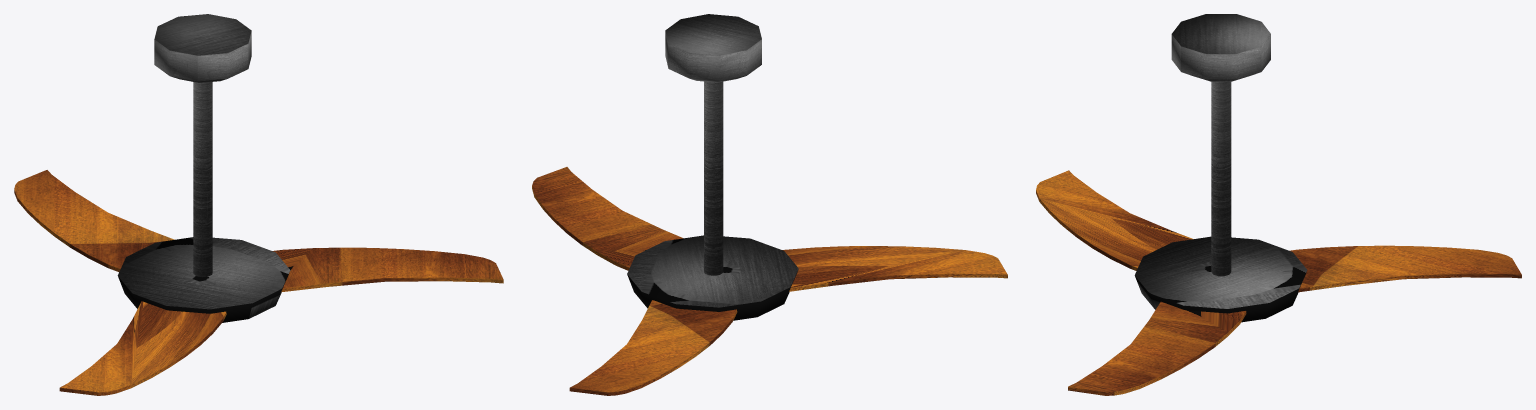
File: lightbulb.glb
The picture shows the model from 3 angles, left to right: view 1: azimuth 30°, elevation 25°; view 2: azimuth 150°, elevation 25°; view 3: azimuth 270°, elevation 25°; orthographic projection.
Parts seen in each view (by area): view 1: Ventilador, Base; view 2: Ventilador, Base; view 3: Ventilador, Base.
Part boxes in pixels (bbox=[...]): Ventilador: bbox=[14, 170, 503, 395]; Base: bbox=[154, 14, 251, 277]; Ventilador: bbox=[532, 167, 1007, 395]; Base: bbox=[665, 14, 761, 275]; Ventilador: bbox=[1036, 170, 1521, 395]; Base: bbox=[1171, 14, 1270, 276].
Size of the model in its own units: 33.02 by 18.49 by 30.54.
4 materials, 4 textured.
